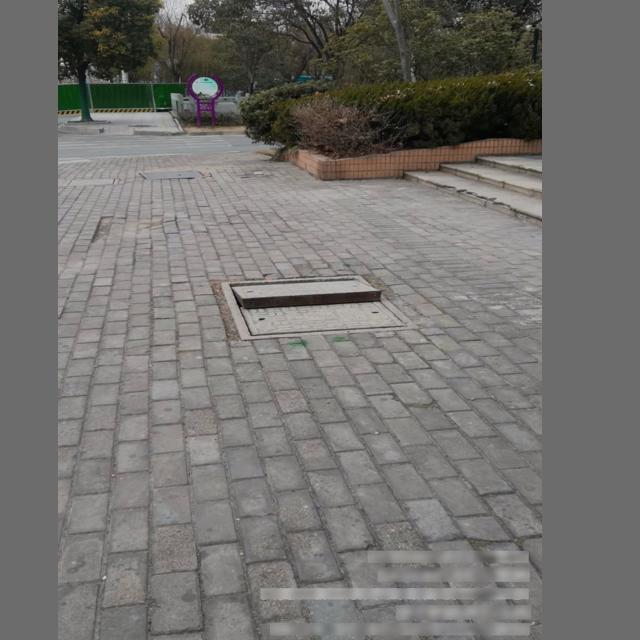uncovered: (223, 272, 421, 339)
